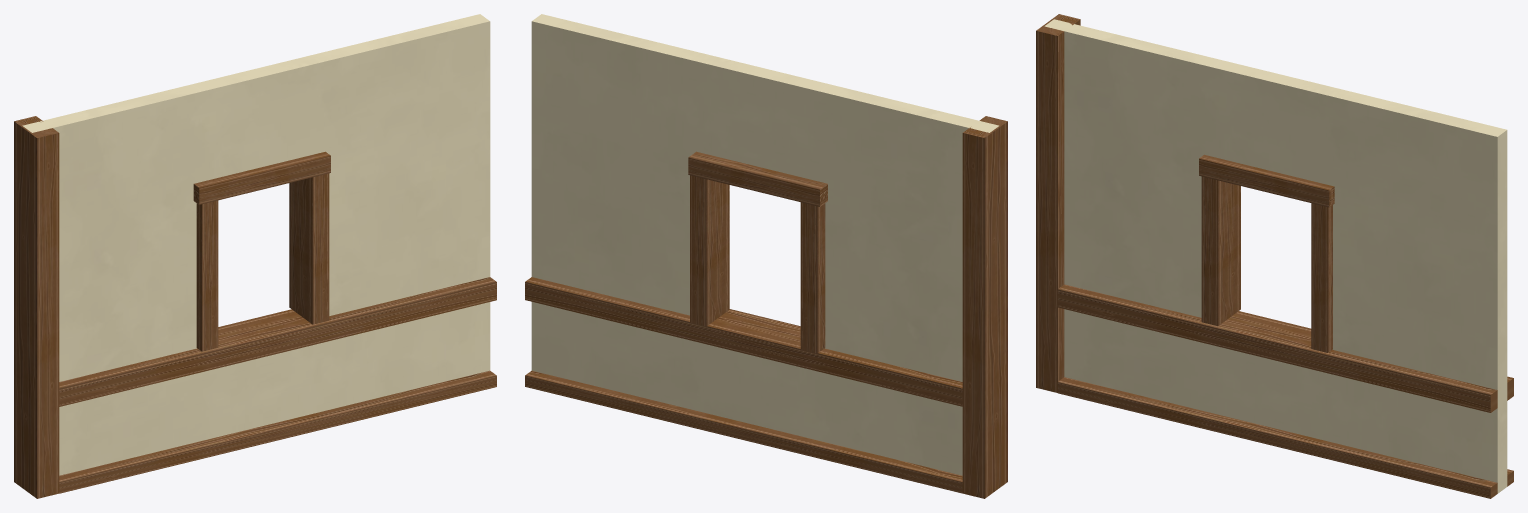
File: SM_Window_Wall_01_wcream.glb
3 views of the same model, side by side, from view 1: azimuth 30°, elevation 25°; view 2: azimuth 150°, elevation 25°; view 3: azimuth 330°, elevation 25° (orthographic).
Parts seen in each view (by area): view 1: SM_Window_Wall_01; view 2: SM_Window_Wall_01; view 3: SM_Window_Wall_01.
Boxes of the visible parts, left/top/right/bottom form: SM_Window_Wall_01: left=14, top=14, right=496, bottom=498; SM_Window_Wall_01: left=525, top=14, right=1007, bottom=498; SM_Window_Wall_01: left=1036, top=14, right=1513, bottom=498.
Bounding box in the file's own units: 4 × 3 × 0.3736.
2 materials, 2 textured.
